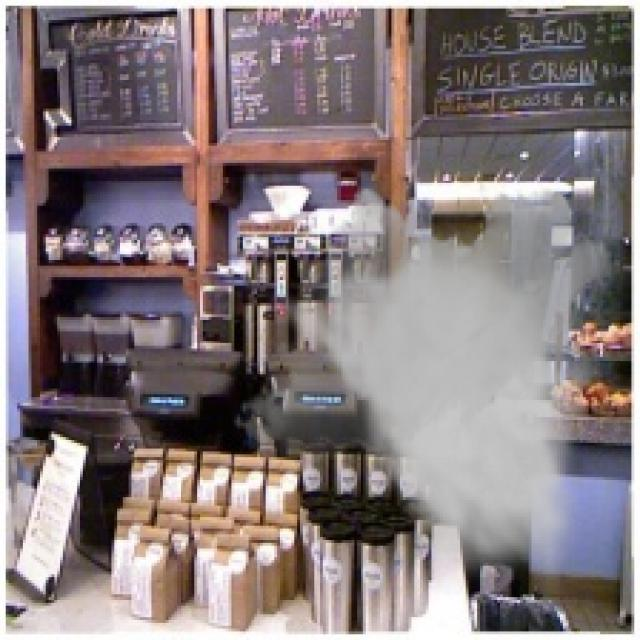smoke: (231, 177, 623, 594)
